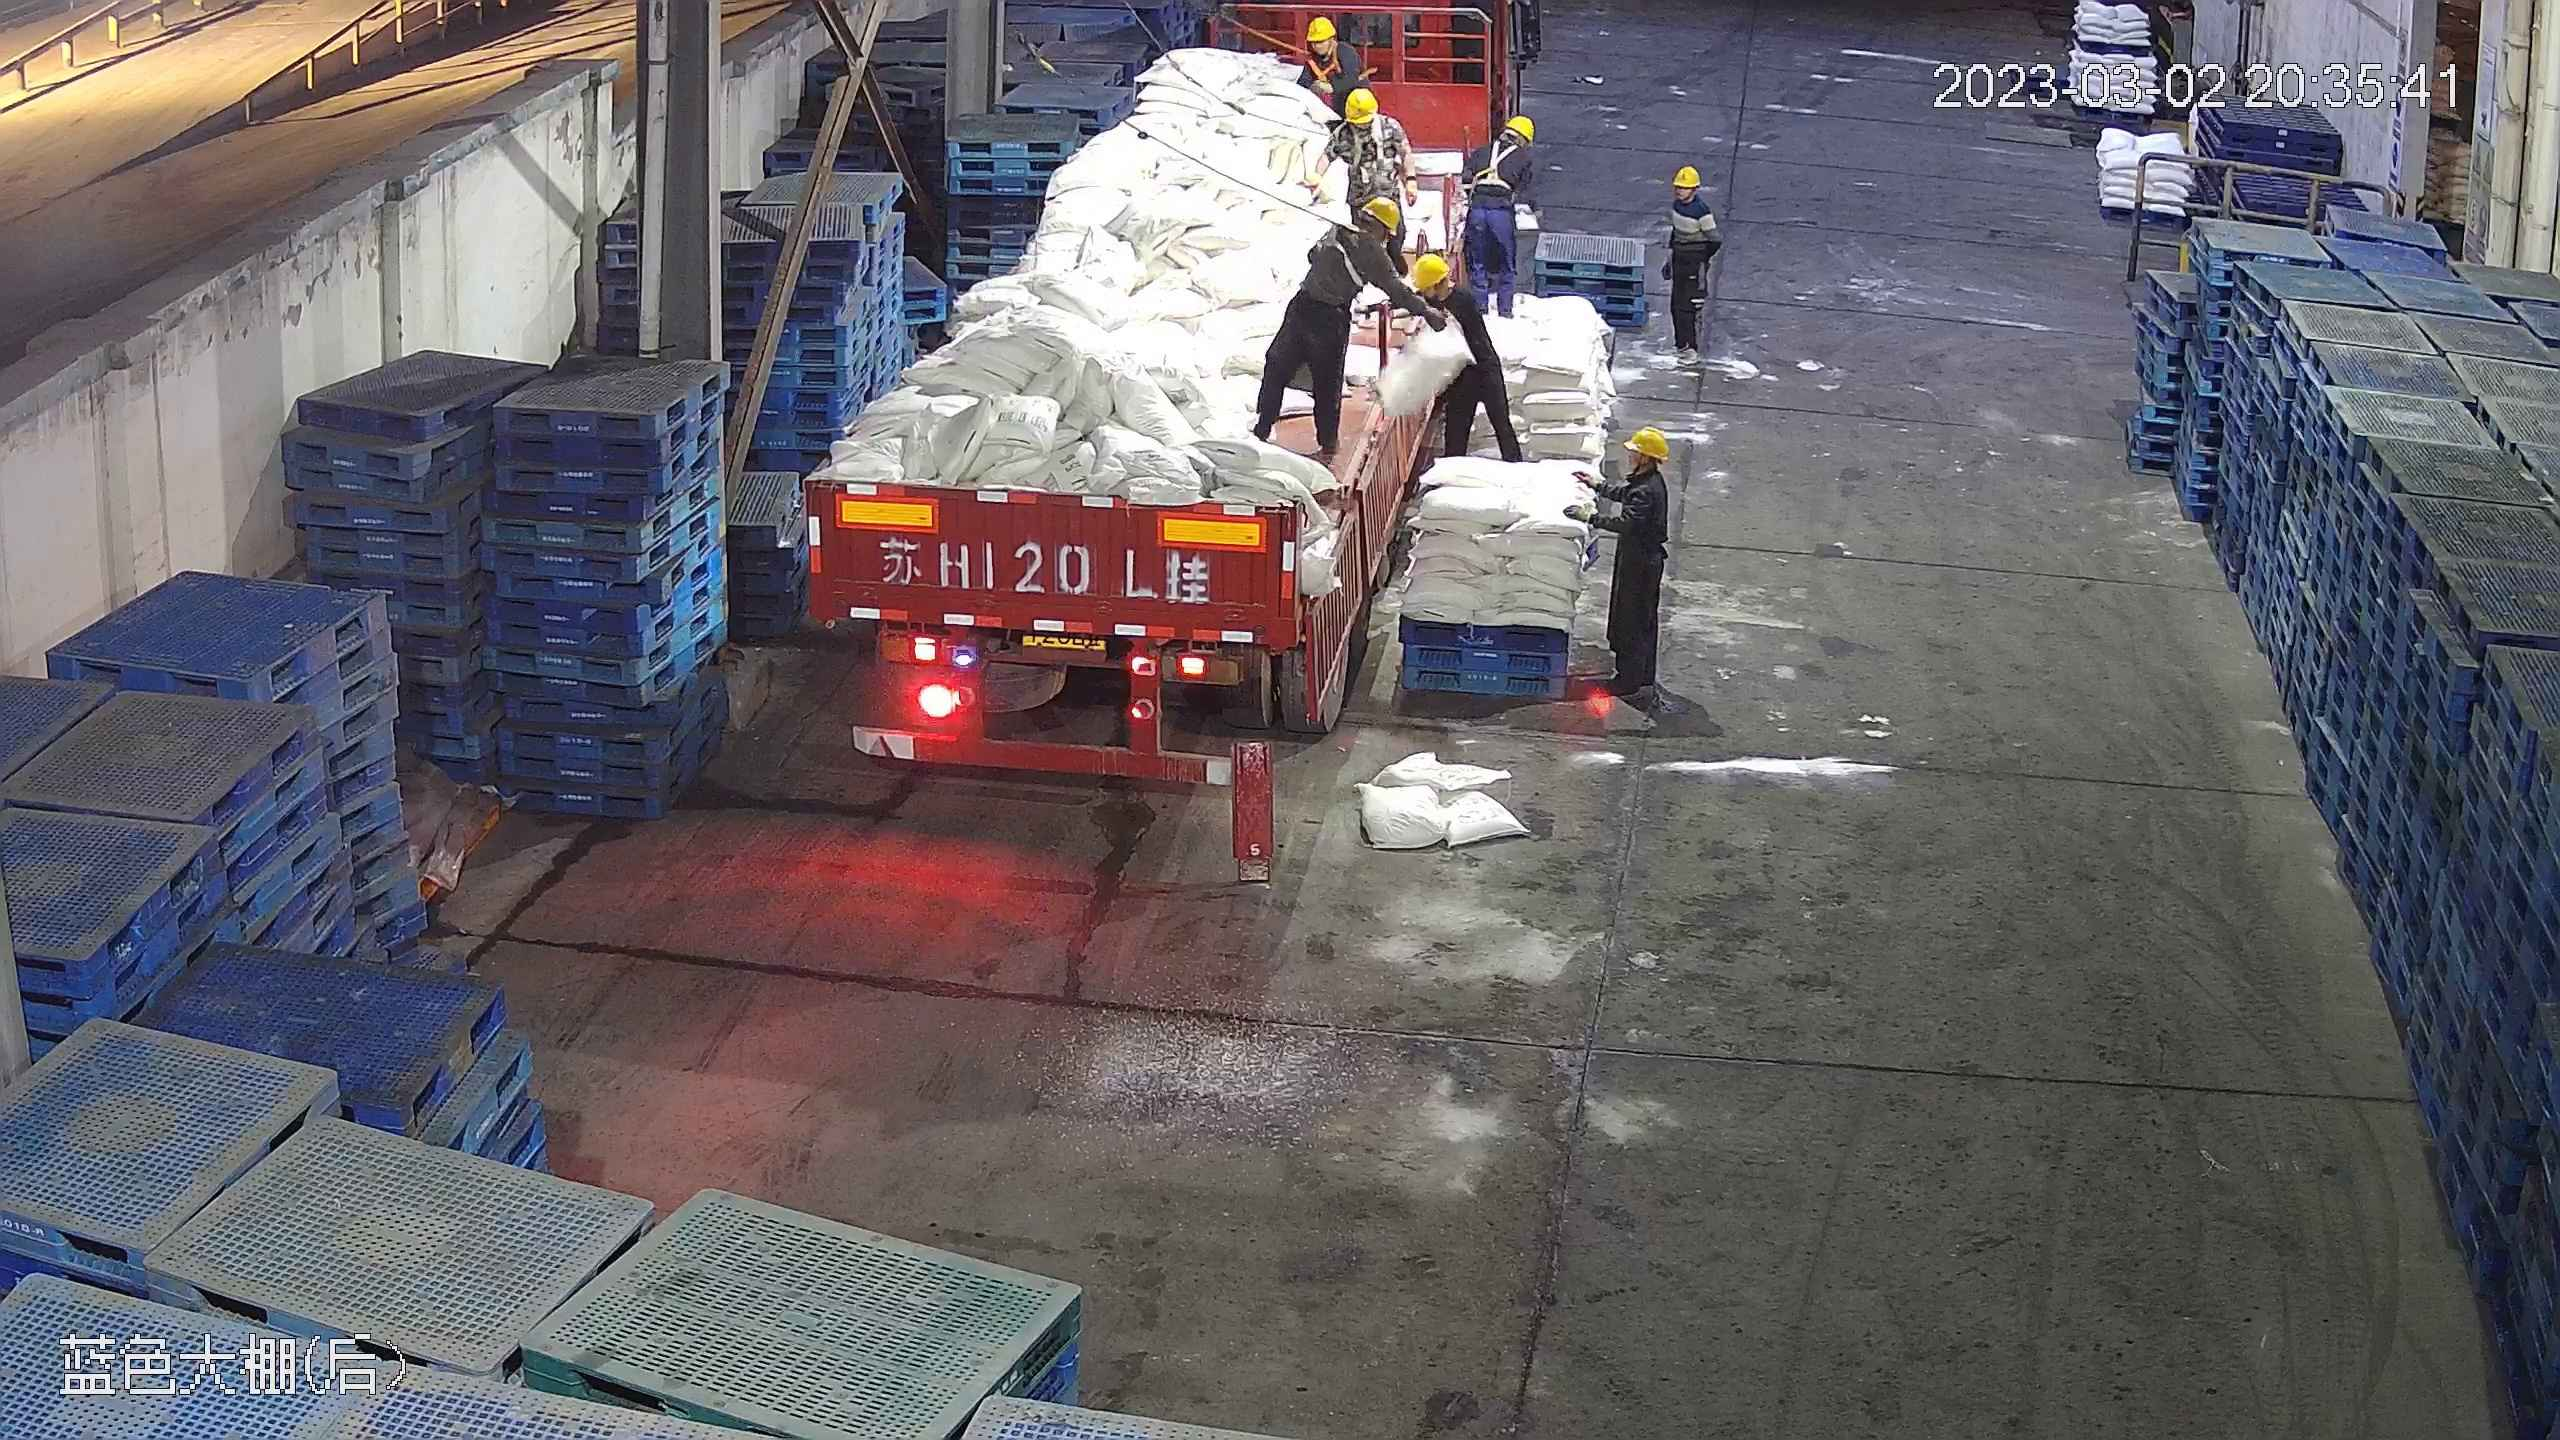belt: (1305, 216, 1379, 287), (1346, 125, 1404, 188), (1454, 135, 1517, 190), (1305, 42, 1345, 84)
head: (1308, 192, 1404, 275), (1598, 423, 1672, 516), (1402, 251, 1490, 326), (1327, 83, 1408, 159), (1465, 112, 1539, 180), (1300, 13, 1356, 79), (1662, 164, 1719, 226)
helmet: (1618, 422, 1670, 462), (1358, 195, 1406, 235), (1406, 249, 1451, 293), (1346, 86, 1381, 121), (1501, 112, 1536, 142), (1302, 13, 1337, 41), (1670, 163, 1703, 190)
people: (1247, 193, 1408, 457), (1581, 419, 1681, 719), (1397, 245, 1527, 461), (1315, 89, 1412, 283), (1455, 110, 1544, 323), (1655, 162, 1723, 364)
truck: (793, 9, 1478, 775)
